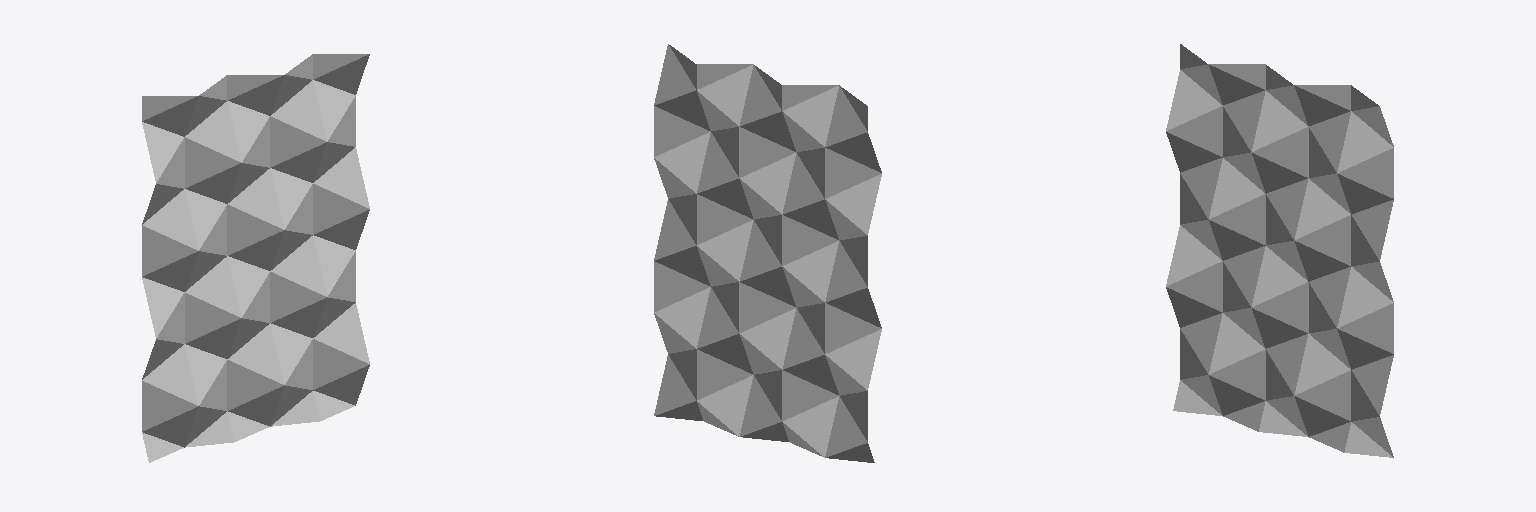
The model's file is surface_pattern_v01.obj.
3 renders of one model, left to right at view 1: azimuth 30°, elevation 25°; view 2: azimuth 150°, elevation 25°; view 3: azimuth 330°, elevation 25°, orthographic.
Bounding box in the file's own units: 25.98 × 42.01 × 3.